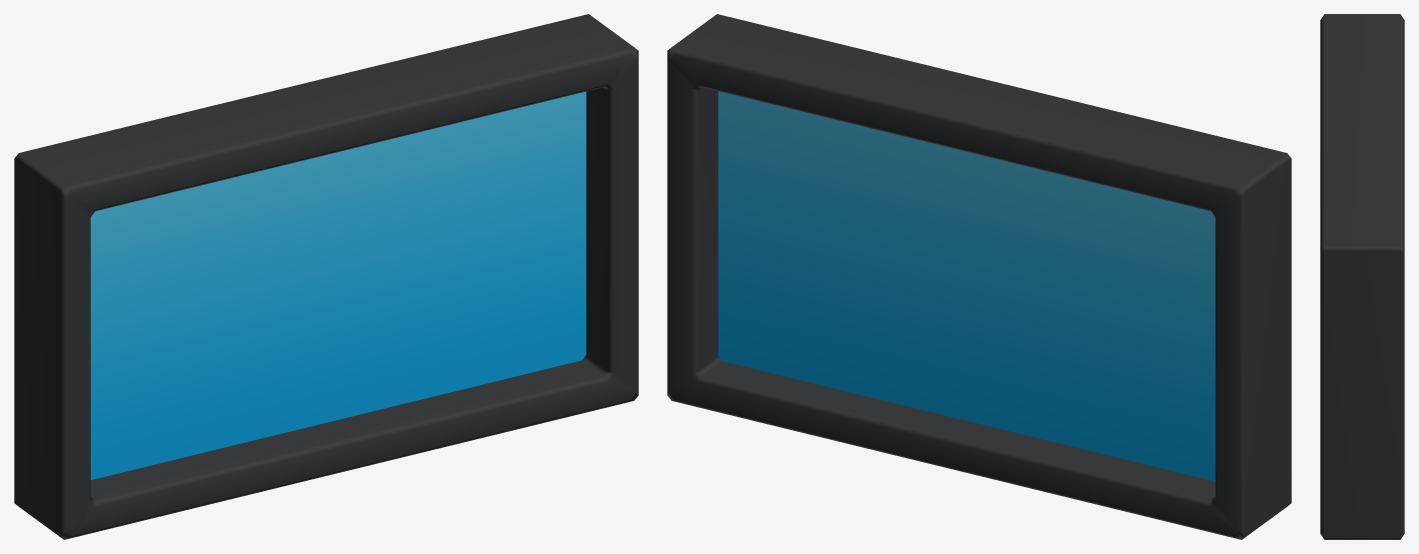
File: Window_Black_05.glb
3 renders of one model, left to right at view 1: azimuth 30°, elevation 25°; view 2: azimuth 150°, elevation 25°; view 3: azimuth 270°, elevation 25°, orthographic. The views are drawn at different scales.
Parts seen in each view (by area): view 1: Window_Black_05; view 2: Window_Black_05; view 3: Window_Black_05.
Part boxes in pixels (x1,y1,x2,y2): Window_Black_05: [14, 14, 638, 539]; Window_Black_05: [667, 14, 1291, 539]; Window_Black_05: [1320, 14, 1404, 539].
Bounding box in the file's own units: 2.64 × 1.54 × 0.4.
Materials: 2 (2 with a texture image).
